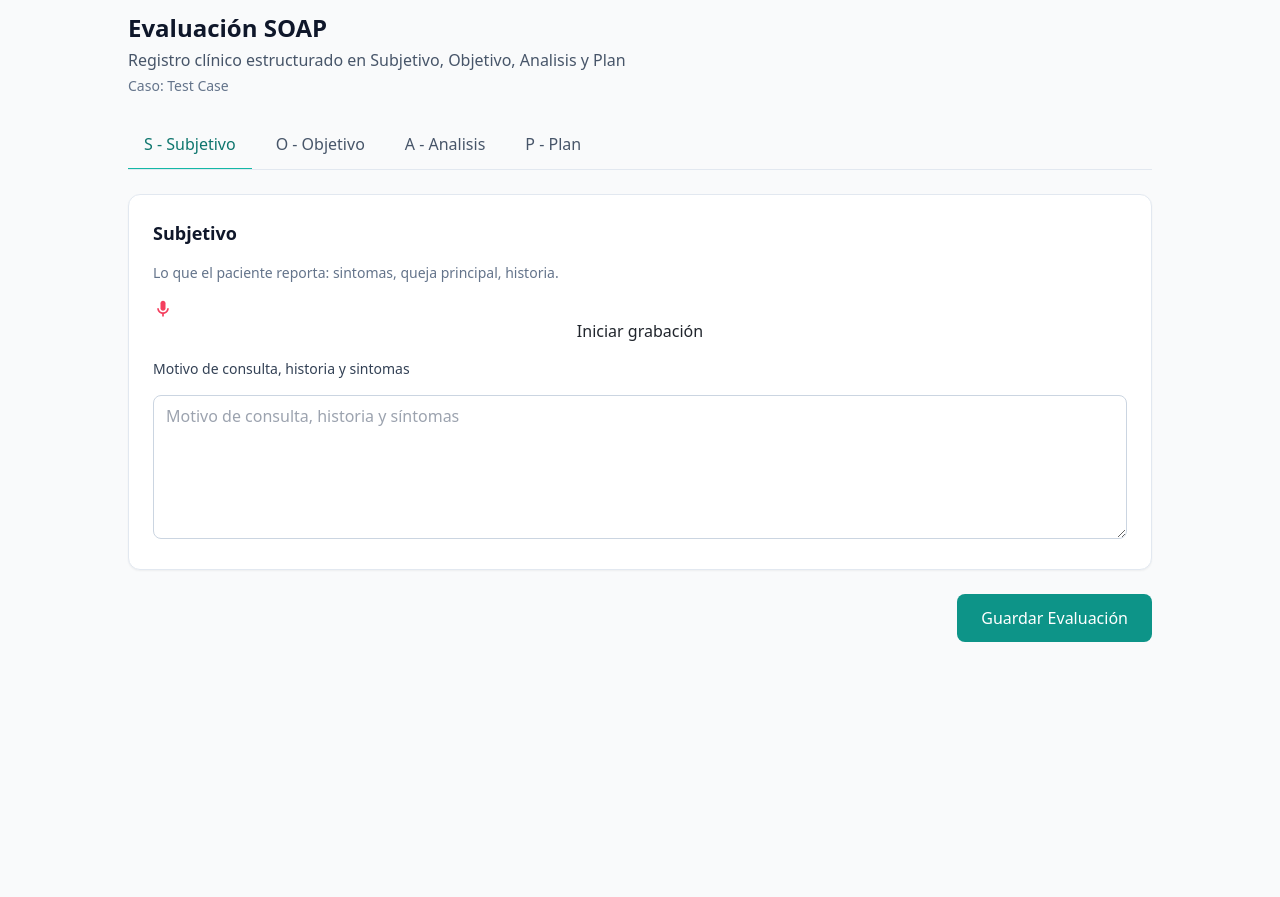
Test: EvaluationForm SOAP › shows plan guard and allows quick navigation to Analisis
Step 1. Click the button "P - Plan" → [553, 145], box [509,120,597,170]
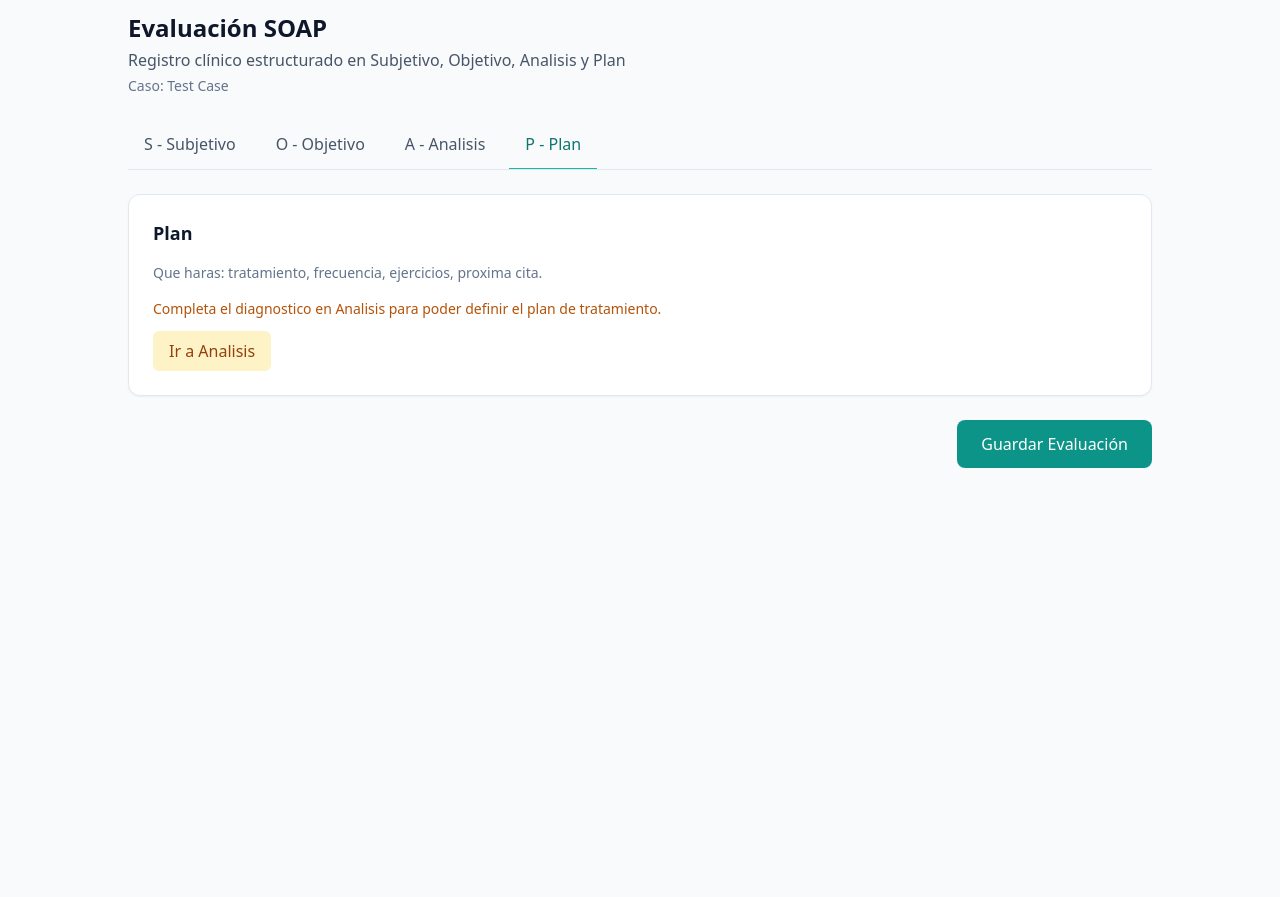
Result: the text "Completa el diagnostico en Analisis para poder definir el plan de tratamiento" is shown at [153,299,661,318]
Step 2. Click the button "Ir a Analisis" → [212, 351], box [153,331,271,371]
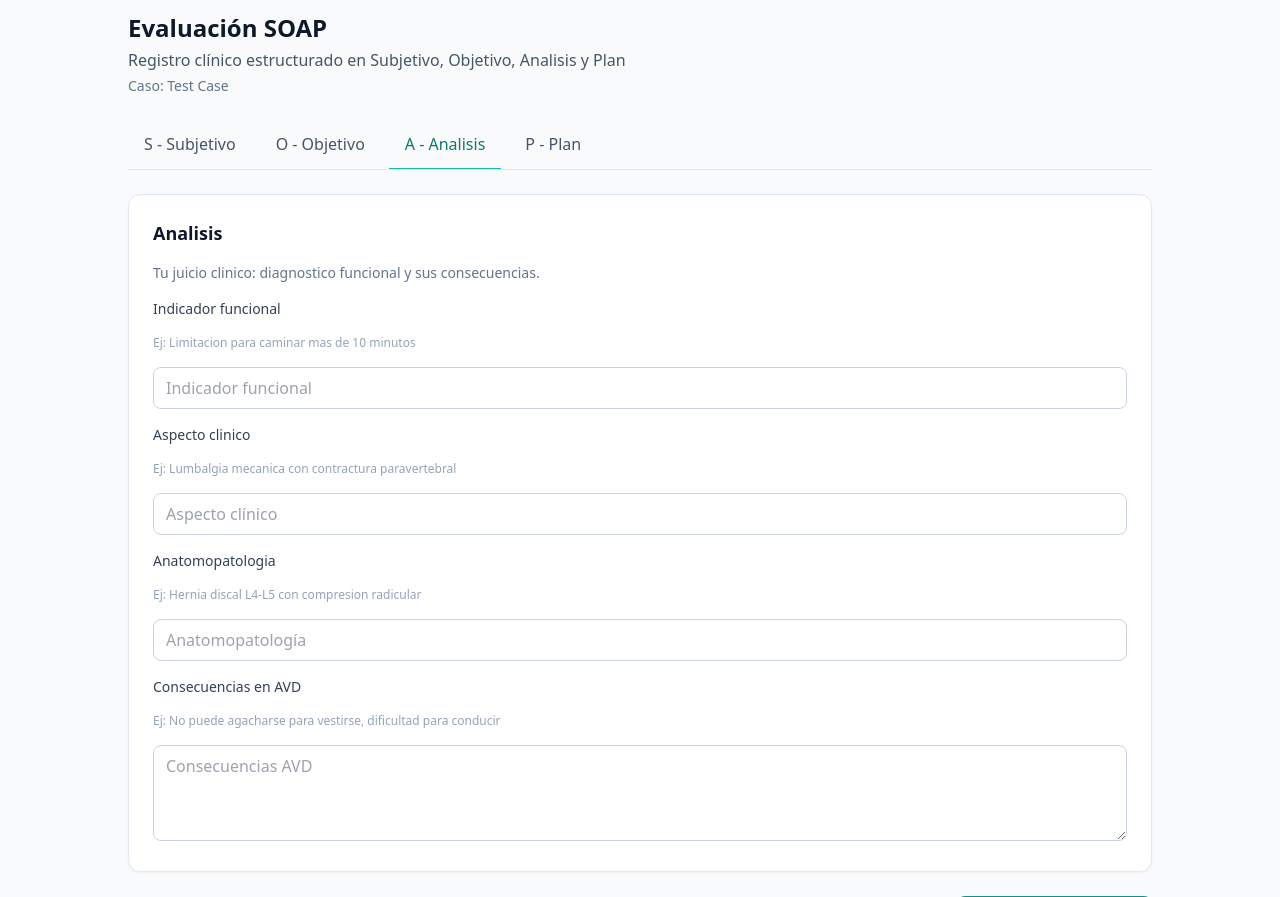
Result: the heading "Analisis" is shown at [153,221,222,245]
